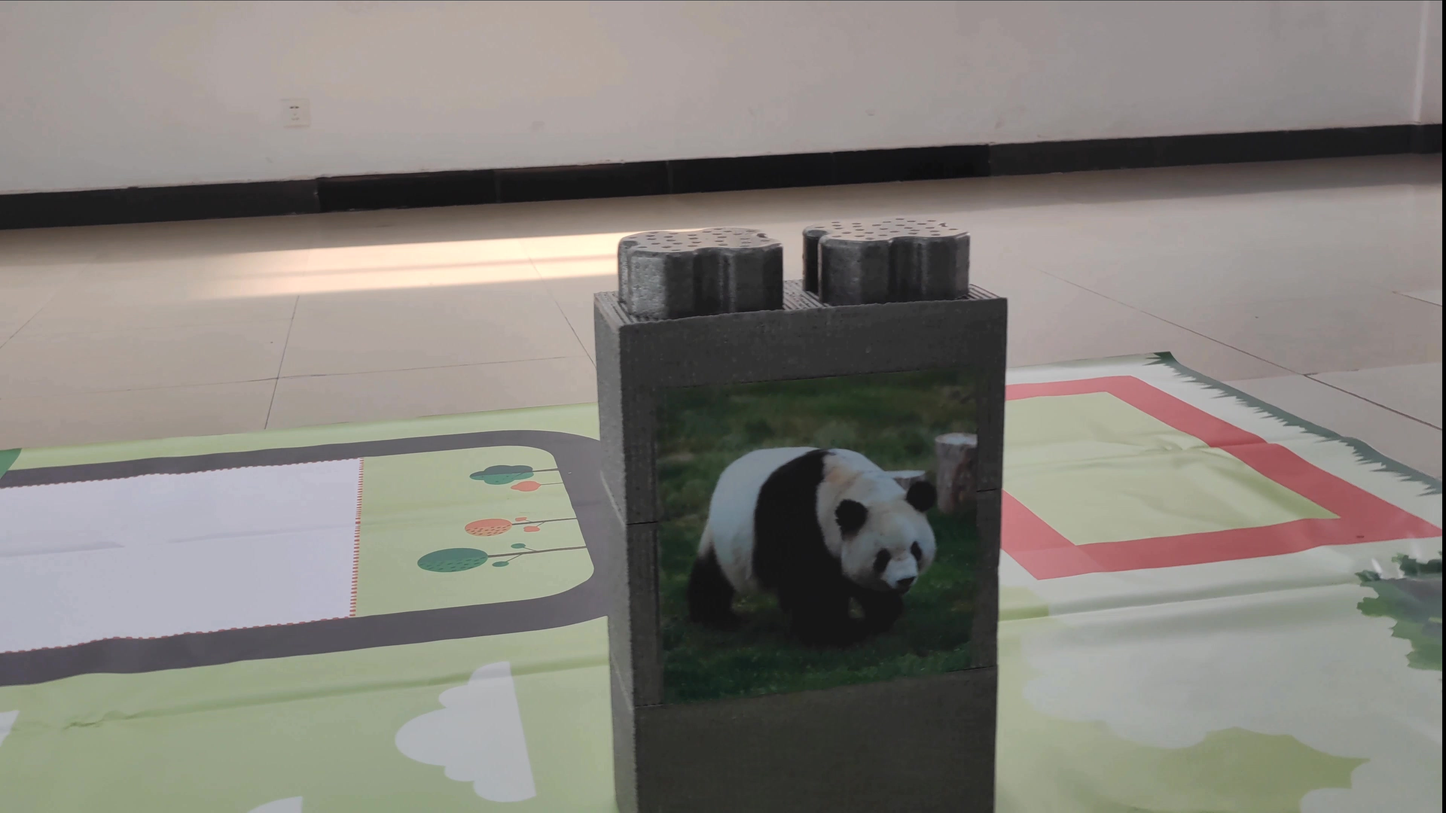panda: (676, 435, 958, 643)
